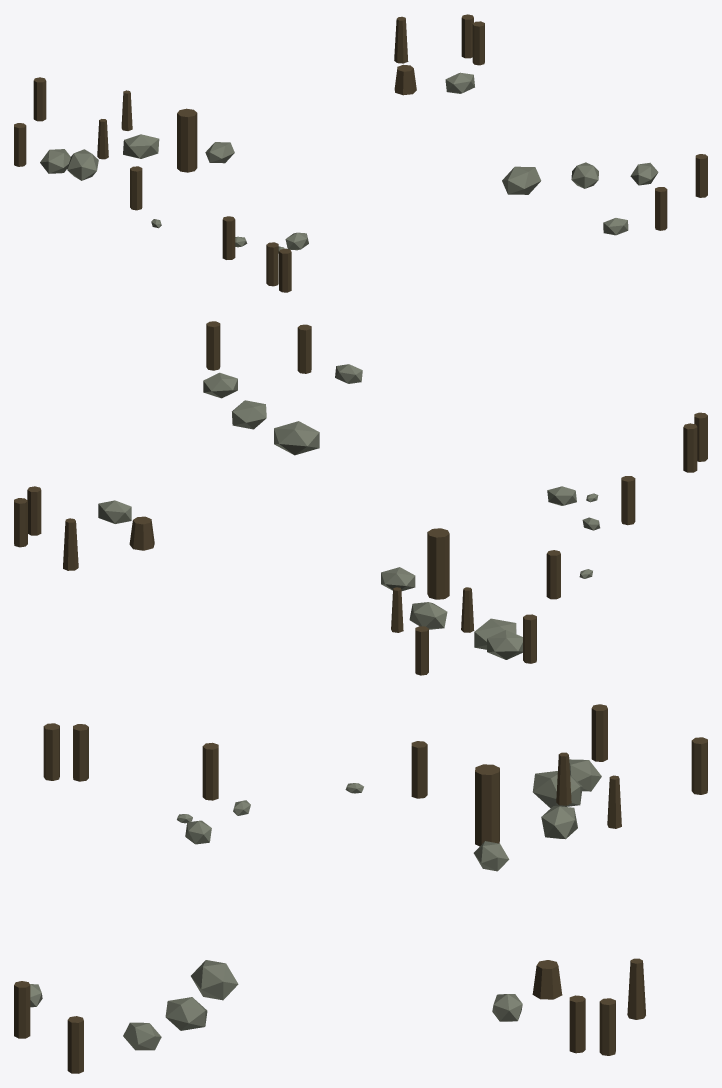
File: path_sunwash_fork_solid_props.fbx
3 renders of one model, top to bottom at view 1: azimuth 30°, elevation 25°; view 2: azimuth 150°, elevation 25°; view 3: azimuth 270°, elevation 25°, orthographic. The views are drawn at different scales.
Visible parts, largest first — view 1: chunk_path_sunwash_fork__PropsSolid; view 2: chunk_path_sunwash_fork__PropsSolid; view 3: chunk_path_sunwash_fork__PropsSolid.
Part boxes in pixels (x1=…): chunk_path_sunwash_fork__PropsSolid: x1=14, y1=14, x2=707, y2=292; chunk_path_sunwash_fork__PropsSolid: x1=14, y1=321, x2=707, y2=675; chunk_path_sunwash_fork__PropsSolid: x1=14, y1=704, x2=707, y2=1073.
Size of the model in its own units: 186 by 23.21 by 173.
